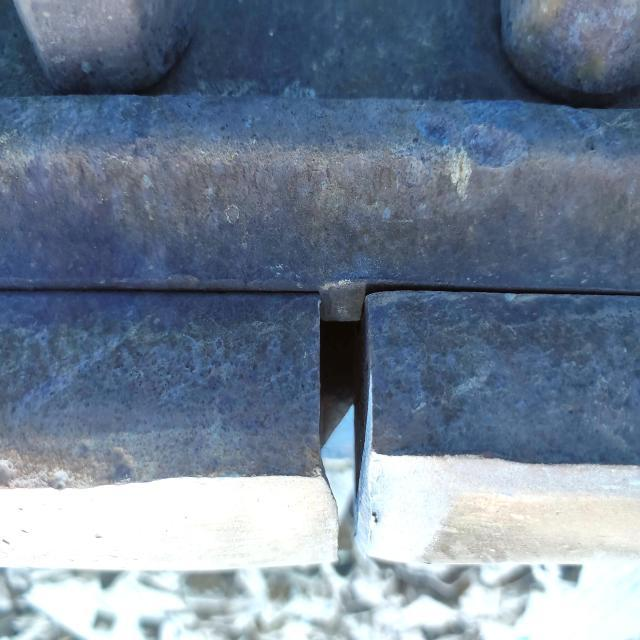head_checks_low: (0, 438, 138, 497)
